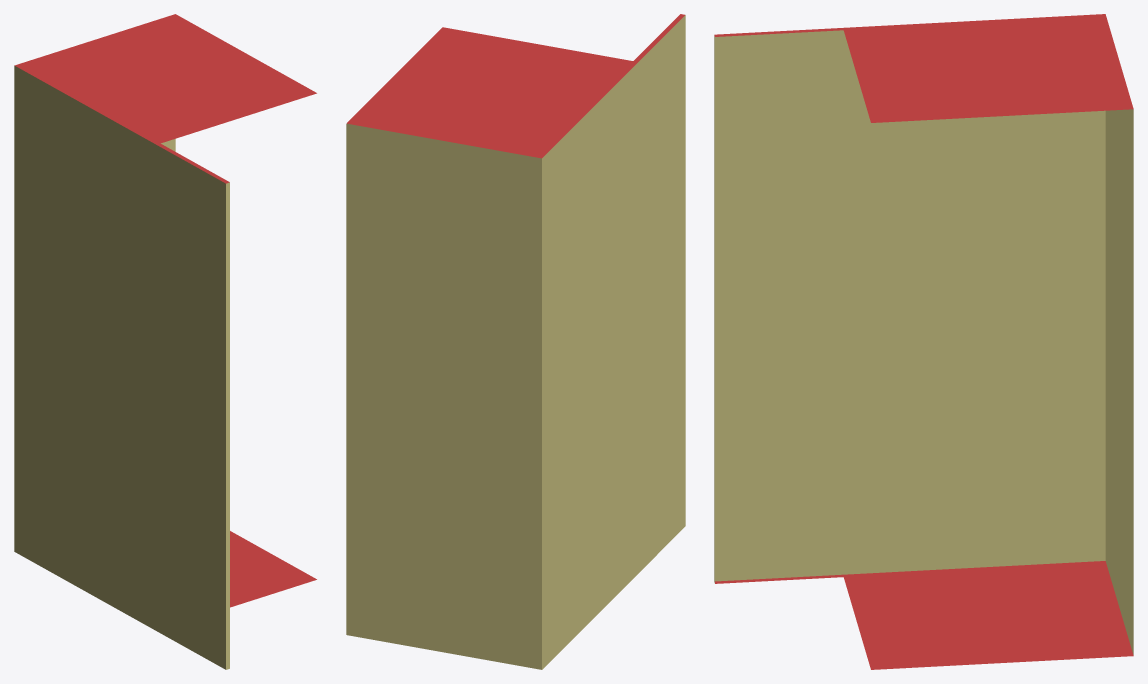
The picture shows the model from 3 angles, left to right: view 1: azimuth 30°, elevation 25°; view 2: azimuth 150°, elevation 25°; view 3: azimuth 270°, elevation 25°; orthographic projection. The views are drawn at different scales.
Size of the model in its own units: 3.8 by 6.18 by 8.89.
